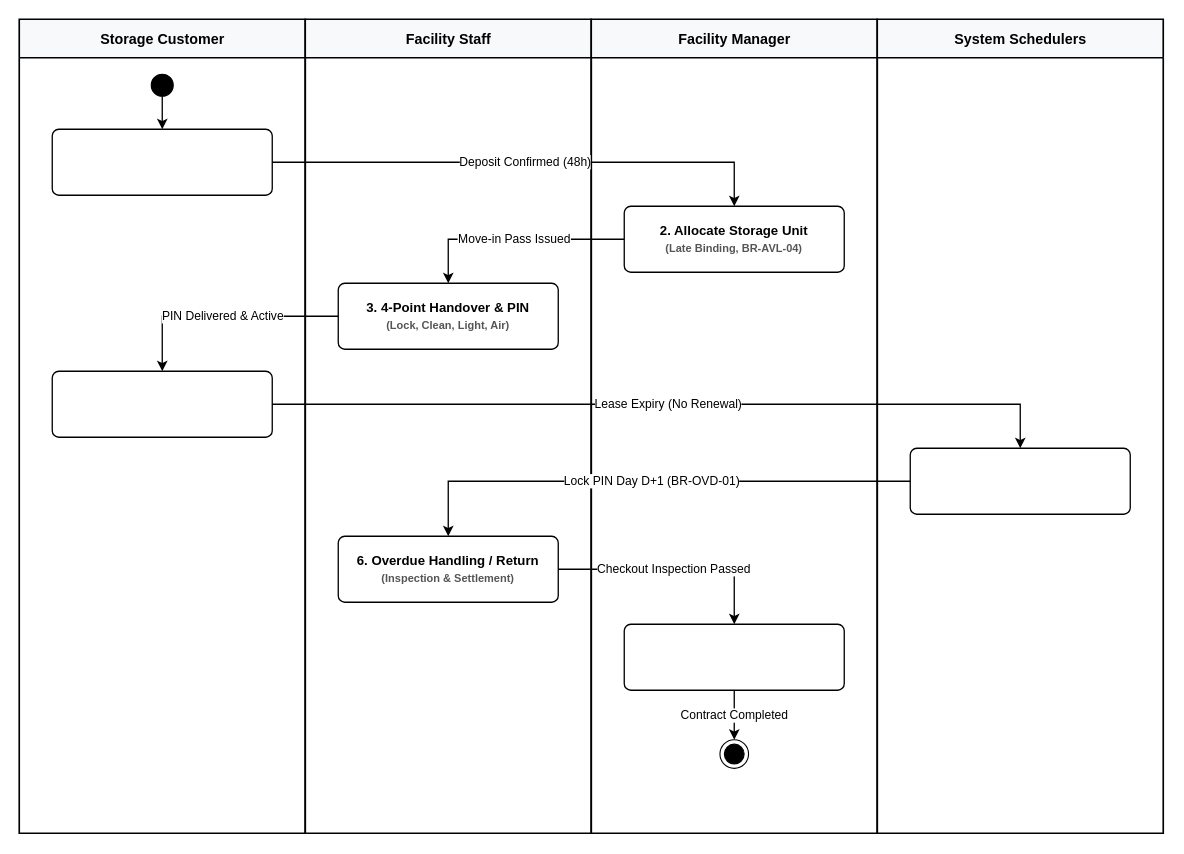
Image size: 1184x854. Some labels were removed from this diagram. The shapes that lost their labels are listed below. From the top down, each one's centre as x and y in pixels, then its label:
At (x=161, y=161): "1. Reserve Unit & Pay Deposit (BR-PRI-01, BR-DEP-01)".
At (x=161, y=403): "4. Occupy & Store Goods (24/7 Keypad Access Portal)".
At (x=1019, y=480): "5. Daily Midnight Overdue Scan (Cron 00:00:00, BR-OVD-01)".
At (x=733, y=656): "7. Approve Final Settlement (Refund Deposit, BR-DEP-03)".
